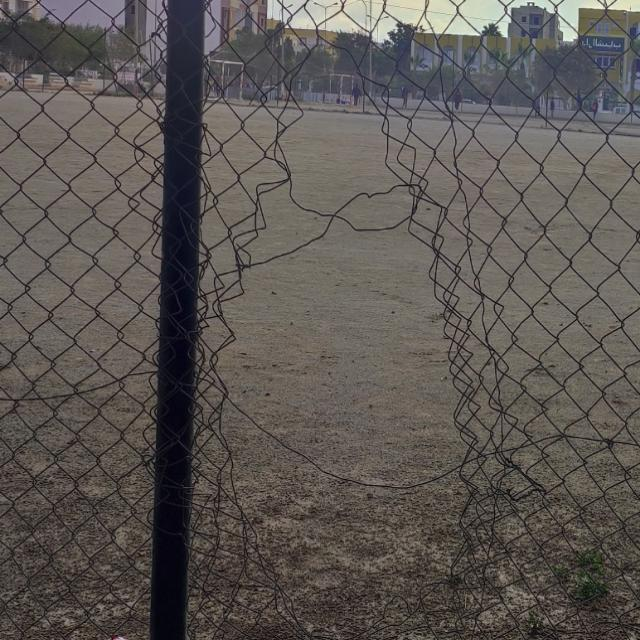fence line: (230, 49, 486, 585)
